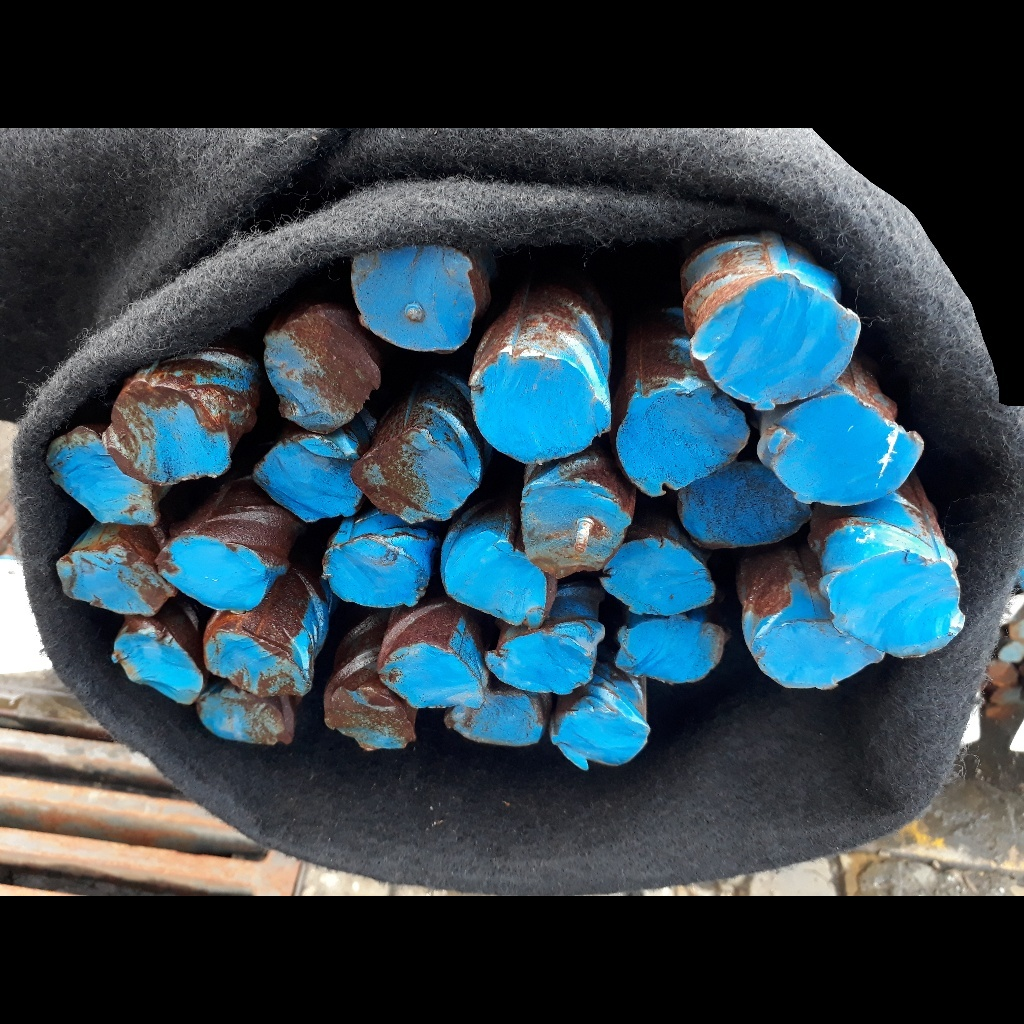dipstick: (687, 271, 865, 412), (757, 391, 925, 508), (467, 354, 613, 466), (826, 548, 966, 660), (259, 307, 382, 434), (614, 385, 750, 492), (346, 245, 480, 352), (104, 381, 235, 488), (350, 427, 481, 523), (42, 424, 162, 525), (673, 462, 813, 548), (514, 479, 627, 582), (749, 619, 891, 695), (253, 431, 366, 524), (445, 540, 556, 629), (598, 538, 718, 618), (155, 533, 268, 615), (54, 550, 176, 619), (615, 614, 729, 686), (201, 627, 315, 697), (110, 623, 207, 705), (322, 538, 429, 612), (487, 626, 598, 696), (376, 642, 488, 710), (551, 705, 657, 773), (319, 685, 422, 754), (198, 687, 302, 746), (442, 692, 551, 746)
